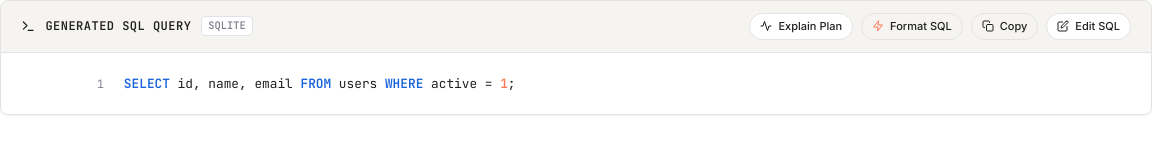
SqlViewer Component › copies SQL to clipboard and shows feedback when Copy is clicked
The image size is (1152, 160).
Click the button "Copy" at (1004, 26), box [971, 13, 1038, 40]
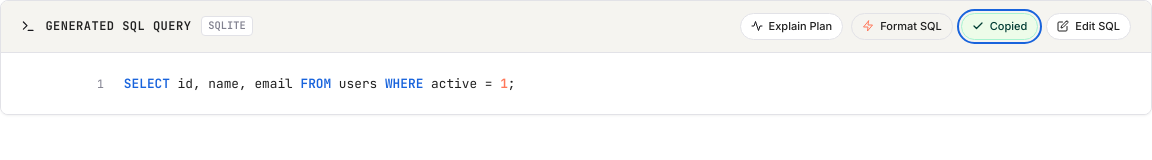
Result: the text "Copied" is shown at [990, 18, 1027, 34]
